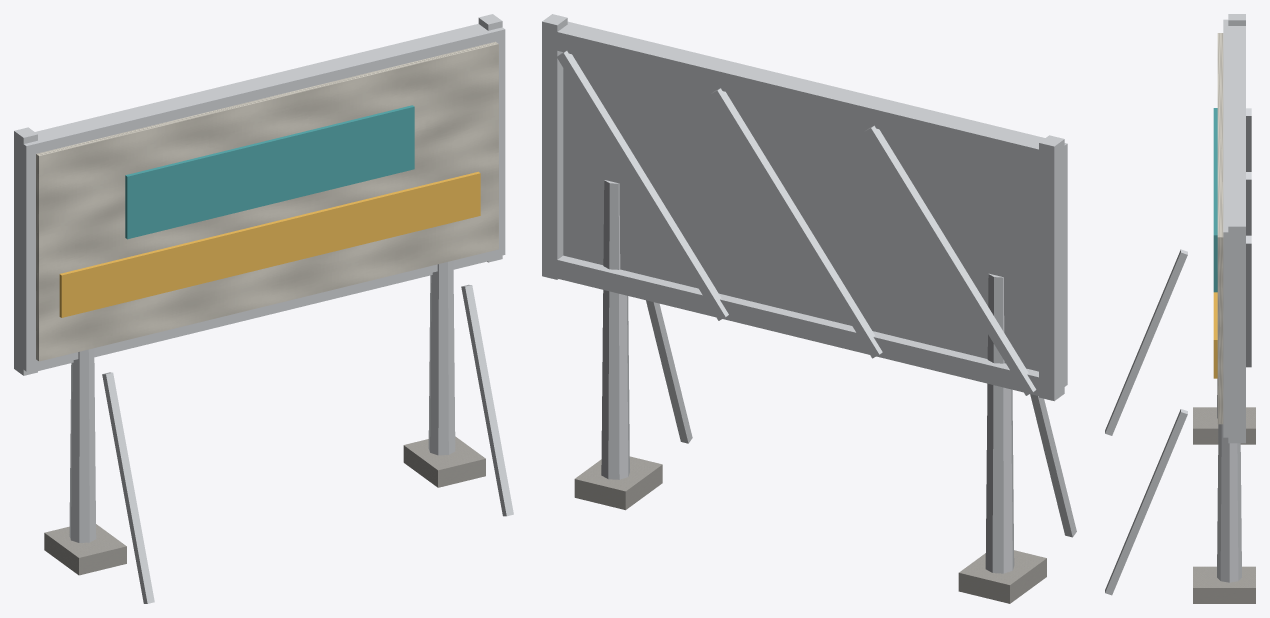
The model's file is indian-bazaar-street-and-temple-hoarding-frame-46b61083__36576.glb.
3 renders of one model, left to right at view 1: azimuth 30°, elevation 25°; view 2: azimuth 150°, elevation 25°; view 3: azimuth 270°, elevation 25°, orthographic. The views are drawn at different scales.
Parts seen in each view (by area): view 1: hoarding-frame-plaster, hoarding-frame-steel, hoarding-frame-saffron, hoarding-frame-teal, hoarding-frame-stone; view 2: hoarding-frame-steel, hoarding-frame-stone; view 3: hoarding-frame-steel, hoarding-frame-stone, hoarding-frame-plaster, hoarding-frame-teal, hoarding-frame-saffron.
Part boxes in pixels (x1,y1,x2,y2): hoarding-frame-plaster: (36,41,498,361); hoarding-frame-steel: (14,14,513,603); hoarding-frame-saffron: (59,171,480,317); hoarding-frame-teal: (125,105,414,239); hoarding-frame-stone: (44,436,485,575); hoarding-frame-steel: (542,14,1076,573); hoarding-frame-stone: (574,456,1046,603); hoarding-frame-steel: (1105,14,1251,595); hoarding-frame-stone: (1193,407,1255,603); hoarding-frame-plaster: (1217,33,1223,424); hoarding-frame-teal: (1213,108,1217,292); hoarding-frame-saffron: (1213,292,1217,378).
Size of the model in its own units: 4 by 3.46 by 1.2.
5 materials, 2 textured.
